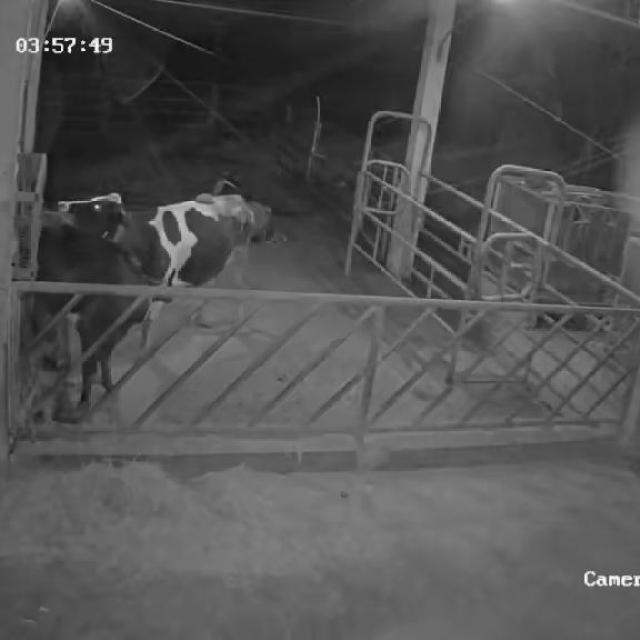lying down: (218, 170, 280, 242)
standing: (36, 210, 147, 410)
